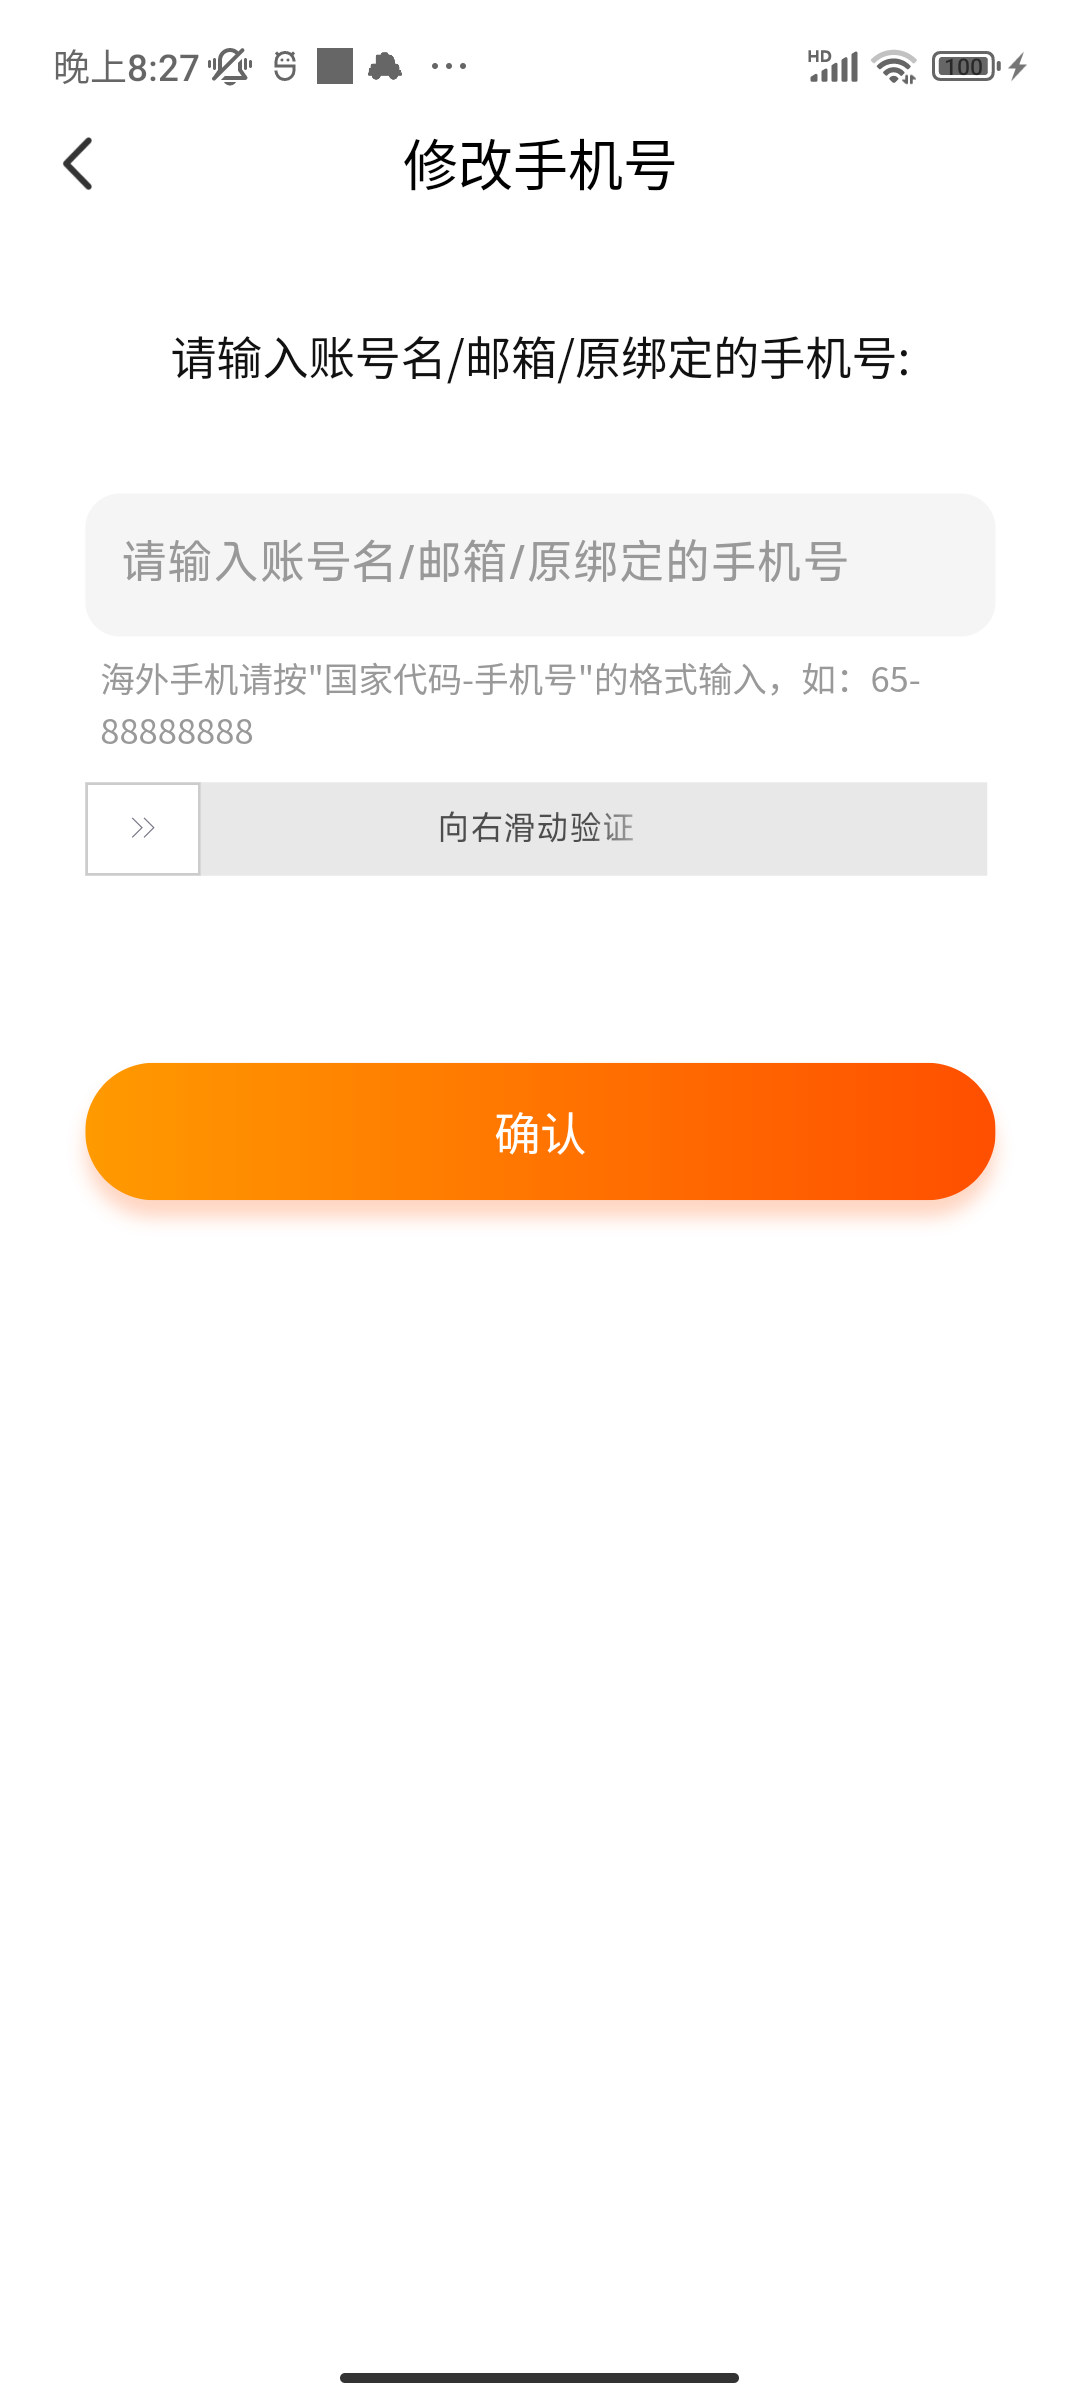ui_group: (44, 119, 1039, 1221)
